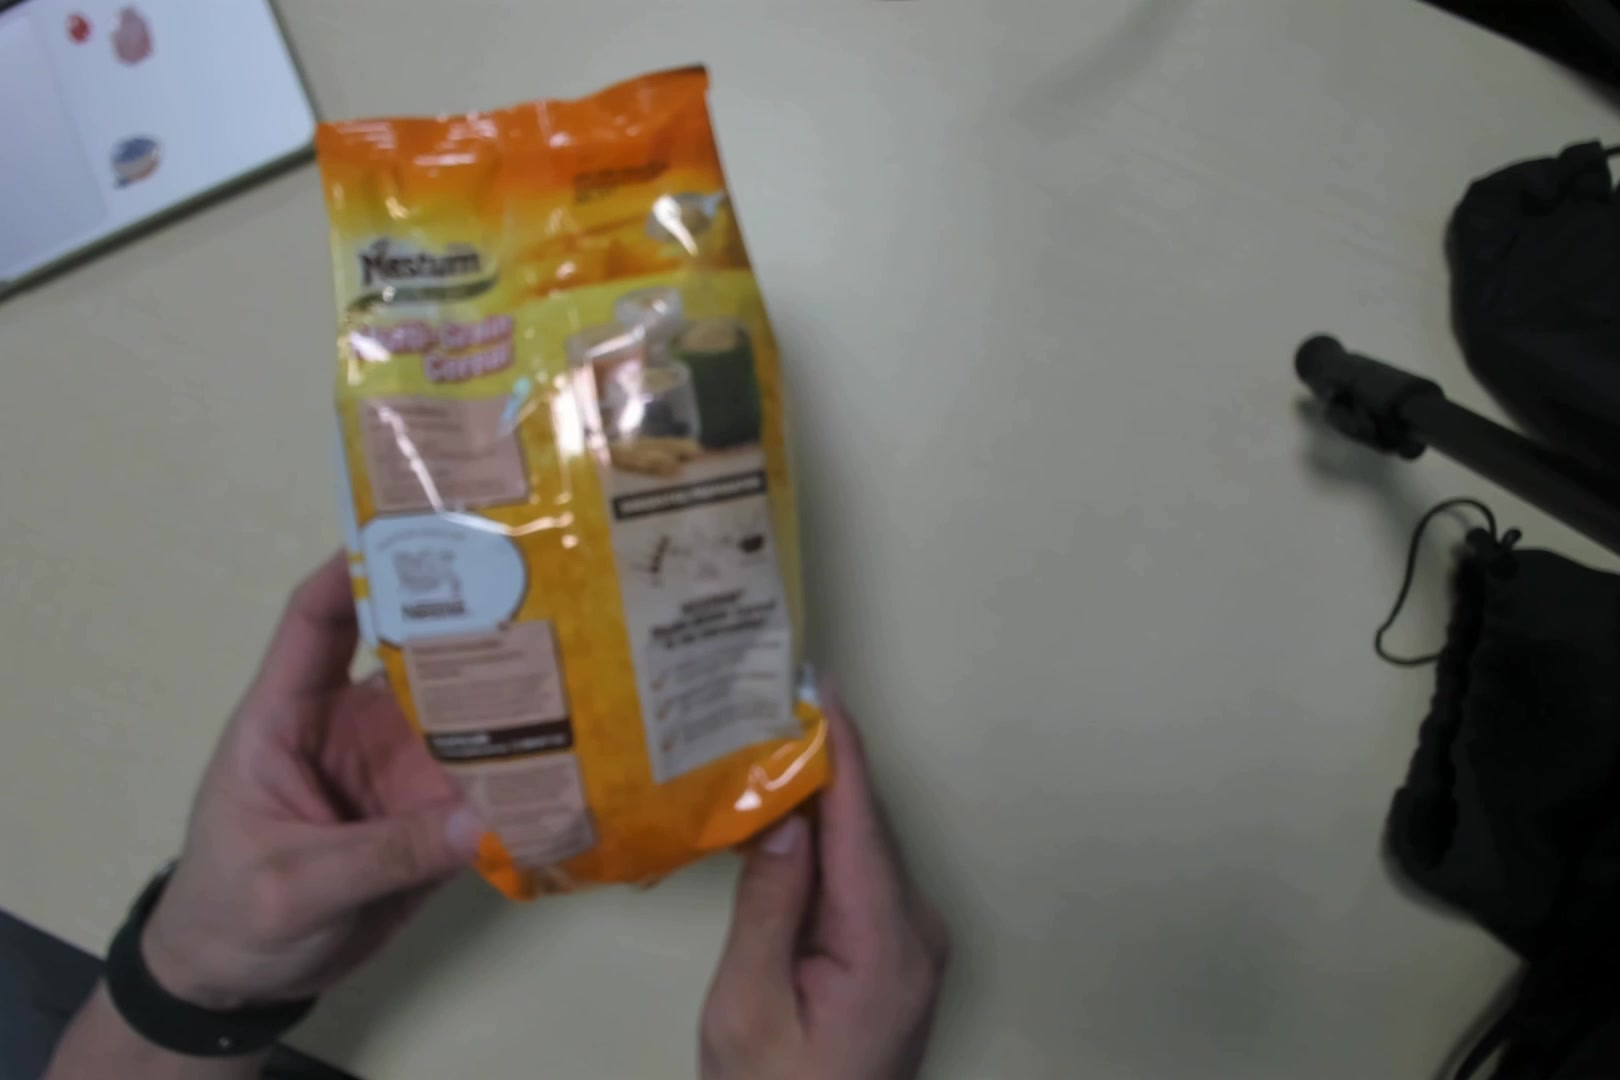RolledOatsInstantOatmeal_200-299g_NonHalal_Healthy: (342, 127, 793, 855)
